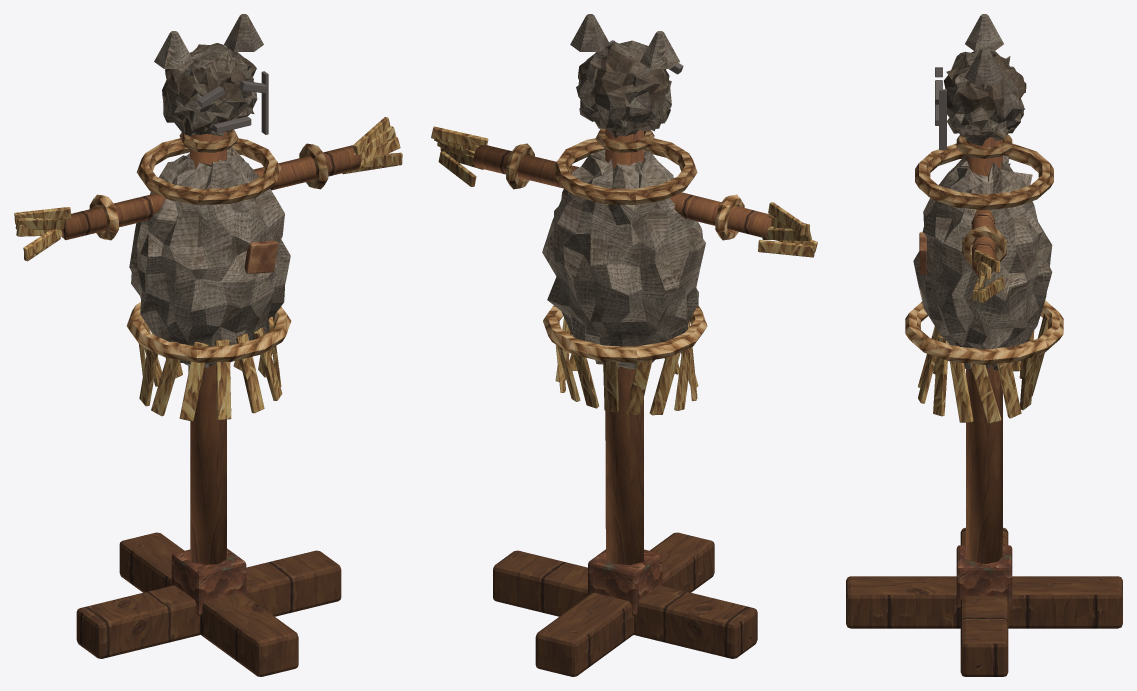
Rendered from training_dummy.glb.
3 renders of one model, left to right at view 1: azimuth 30°, elevation 25°; view 2: azimuth 150°, elevation 25°; view 3: azimuth 270°, elevation 25°, orthographic.
Visible parts, largest first — view 1: model; view 2: model; view 3: model.
Boxes of the visible parts, left/top/right/bottom form: model: left=14, top=14, right=402, bottom=676; model: left=431, top=14, right=817, bottom=676; model: left=846, top=14, right=1122, bottom=676.
Size of the model in its own units: 1.08 by 1.64 by 0.7.
14 materials, 13 textured.
